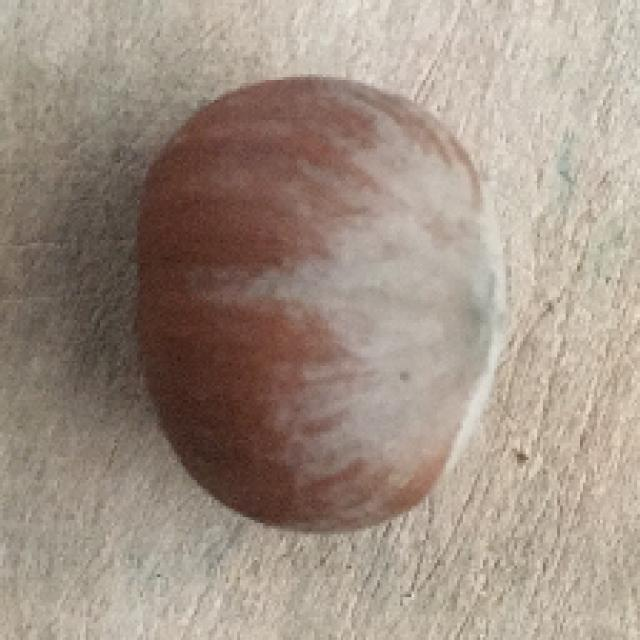qualityHazelnut: (104, 64, 518, 545)
